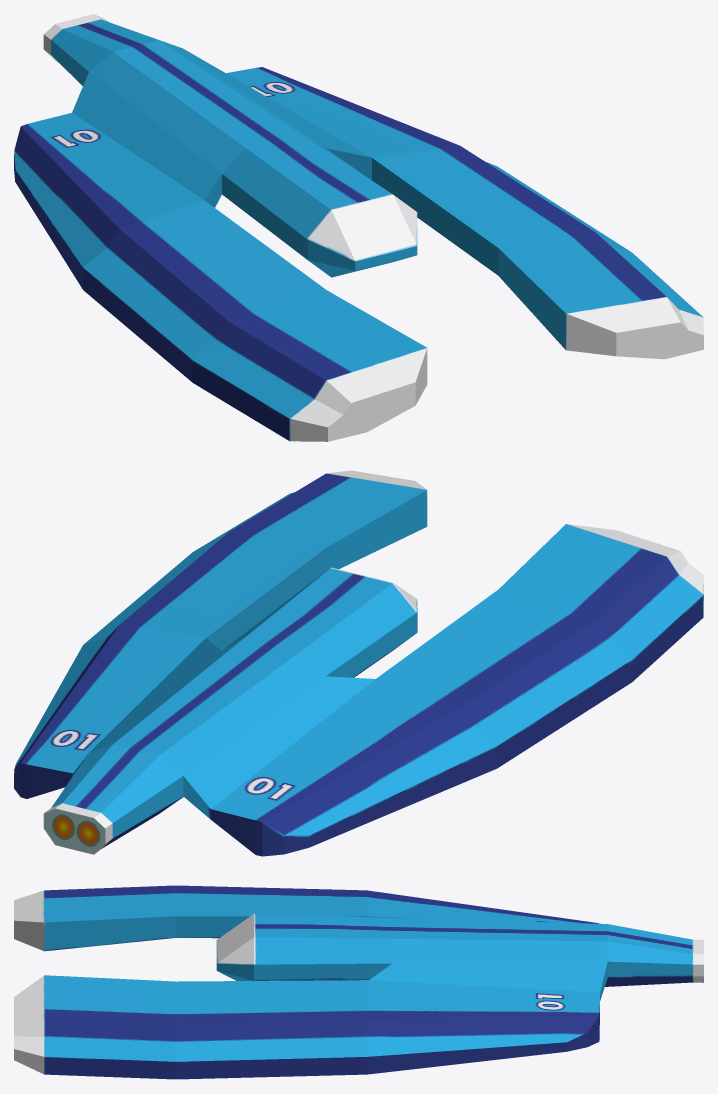
File: vehicle_with_texture.obj
3 views of the same model, one above another, from view 1: azimuth 30°, elevation 25°; view 2: azimuth 150°, elevation 25°; view 3: azimuth 270°, elevation 25° (orthographic). The views are drawn at different scales.
Parts seen in each view (by area): view 1: Cube.001_Cube.000; view 2: Cube.001_Cube.000; view 3: Cube.001_Cube.000.
Boxes of the visible parts, x1,y1,x2,y2 form: Cube.001_Cube.000: (14,14,703,441); Cube.001_Cube.000: (14,470,703,856); Cube.001_Cube.000: (14,885,703,1079).
Size of the model in its own units: 479 by 94.16 by 834.
1 material, 1 textured.
